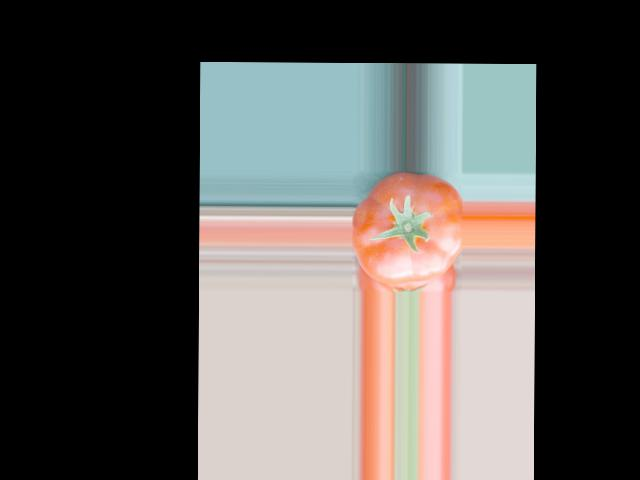tomato: (350, 172, 463, 284)
